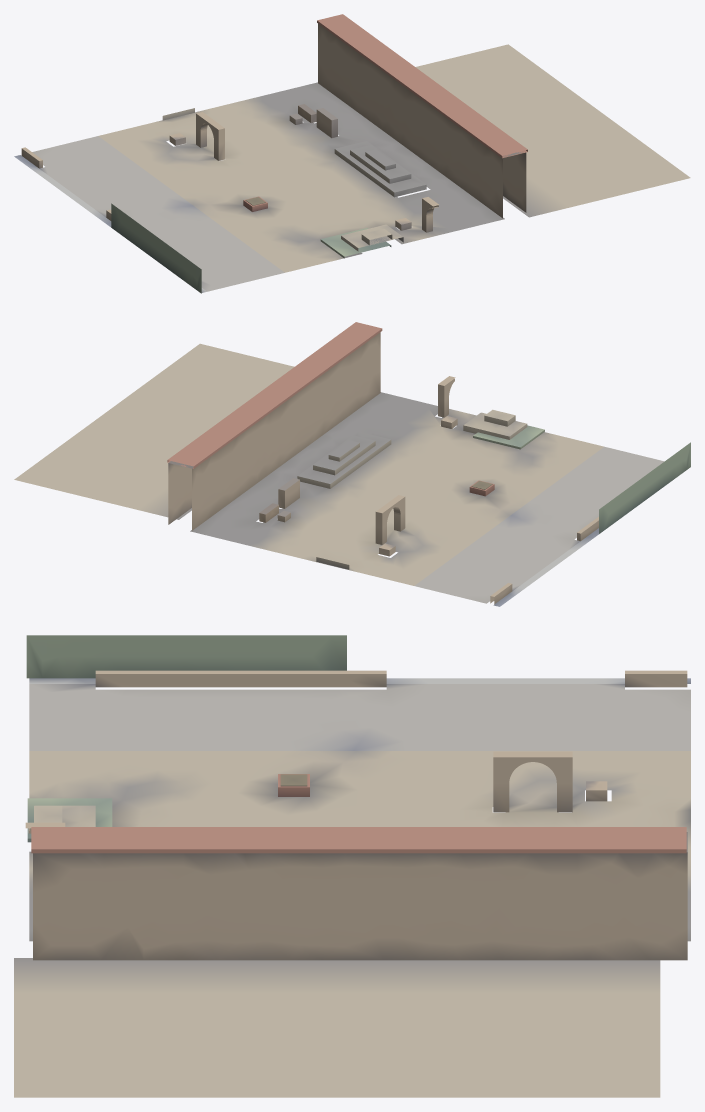
3 renders of one model, top to bottom at view 1: azimuth 30°, elevation 25°; view 2: azimuth 150°, elevation 25°; view 3: azimuth 270°, elevation 25°, orthographic. The views are drawn at different scales.
Parts seen in each view (by area): view 1: t; view 2: t; view 3: t.
Boxes of the visible parts, x1,y1,x2,y2 form: t: (14,14,690,293); t: (14,322,690,606); t: (14,635,690,1097).
Bounding box in the file's own units: 75 × 9.35 × 51.16.
